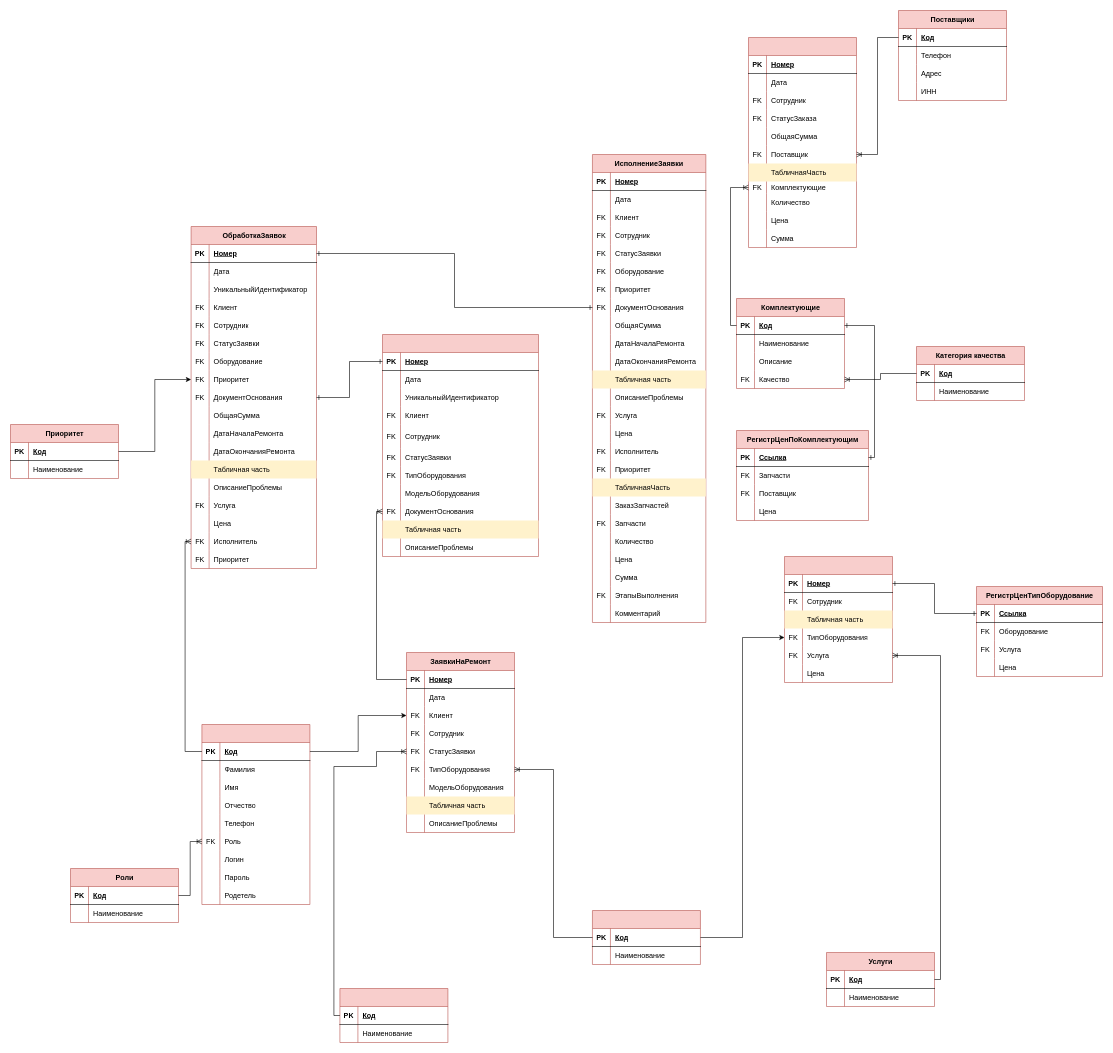
Image size: 1113x1053. Some labels were removed from this diagram. The box of each missing label's shape, as (x1, y1, x2, y2) in pixels:
Заказ комплектующие: (748, 37, 856, 248)
Пользователи: (201, 724, 310, 904)
РегистрацияЗаявок: (382, 334, 538, 556)
Статус заявки: (339, 988, 448, 1042)
Тип оборудования: (592, 910, 700, 964)
УстановлениеЦенНаУслуги: (784, 556, 892, 682)
